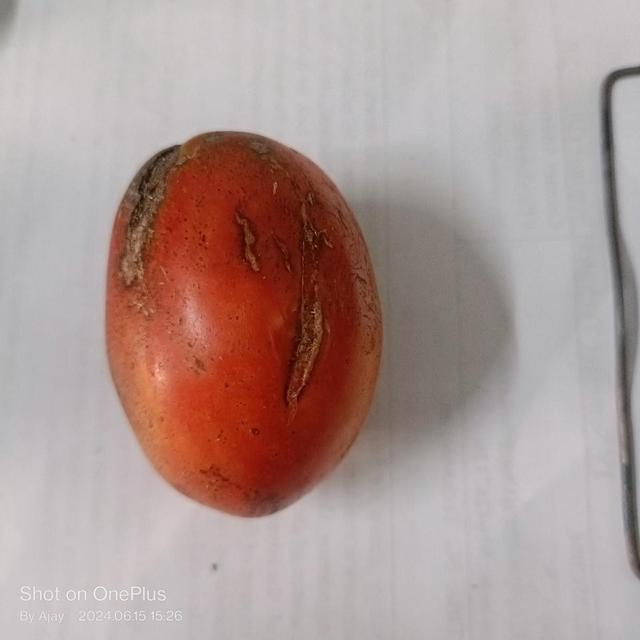Cracking Fruit: (96, 90, 215, 276)
